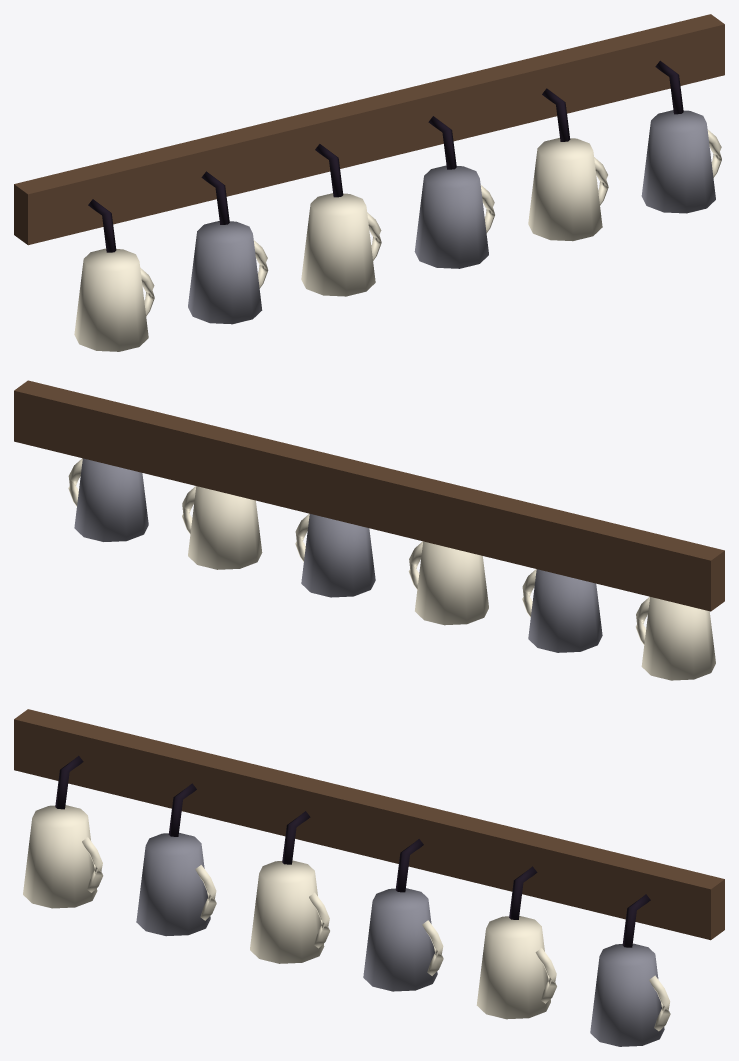
File: cup_hooks.glb
3 views of the same model, one above another, from view 1: azimuth 30°, elevation 25°; view 2: azimuth 150°, elevation 25°; view 3: azimuth 330°, elevation 25° (orthographic).
Visible parts, largest first — view 1: cup_hooks; view 2: cup_hooks; view 3: cup_hooks.
Part boxes in pixels (bbox=[...]): cup_hooks: bbox=[14, 14, 724, 351]; cup_hooks: bbox=[14, 380, 724, 680]; cup_hooks: bbox=[14, 709, 724, 1046].
Size of the model in its own units: 0.86 by 0.17 by 0.108.
